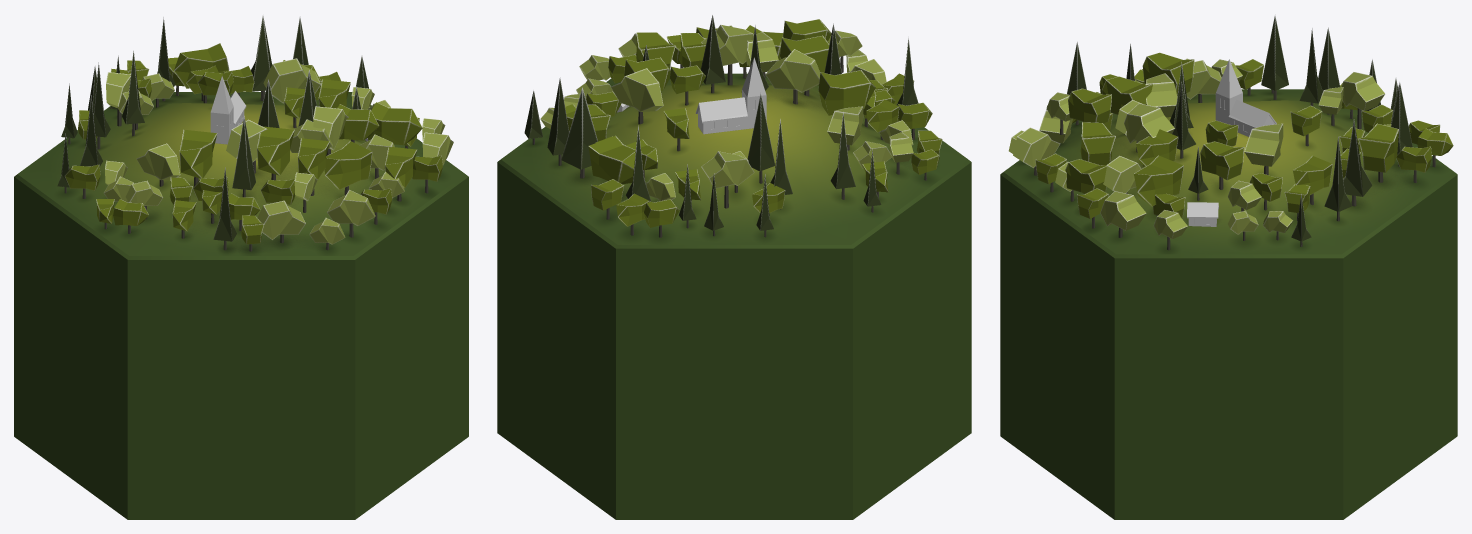
File: Tile_Forrest.fbx
3 renders of one model, left to right at view 1: azimuth 30°, elevation 25°; view 2: azimuth 150°, elevation 25°; view 3: azimuth 270°, elevation 25°, orthographic. The views are drawn at different scales.
Visible parts, largest first — view 1: Forrest; view 2: Forrest; view 3: Forrest.
Part boxes in pixels (x1,y1,x2,y2): Forrest: (14,15,468,519); Forrest: (497,15,971,519); Forrest: (1000,14,1457,519).
Bounding box in the file's own units: 1964 × 2023 × 2229.
